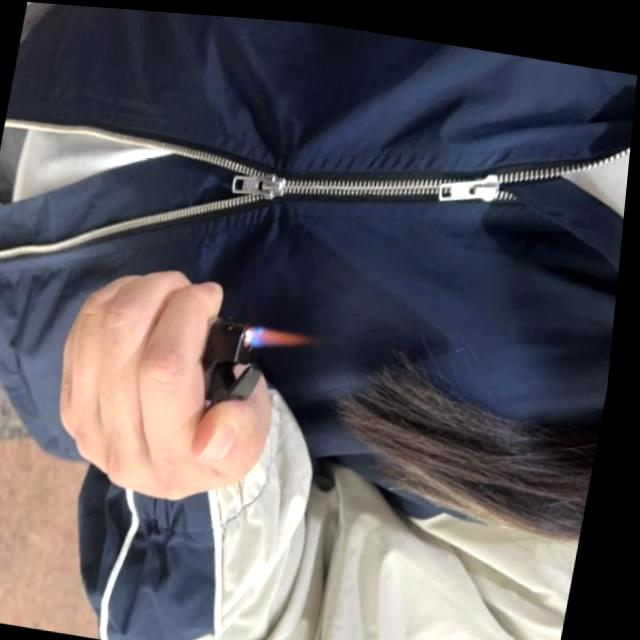fire: (255, 316, 317, 352)
